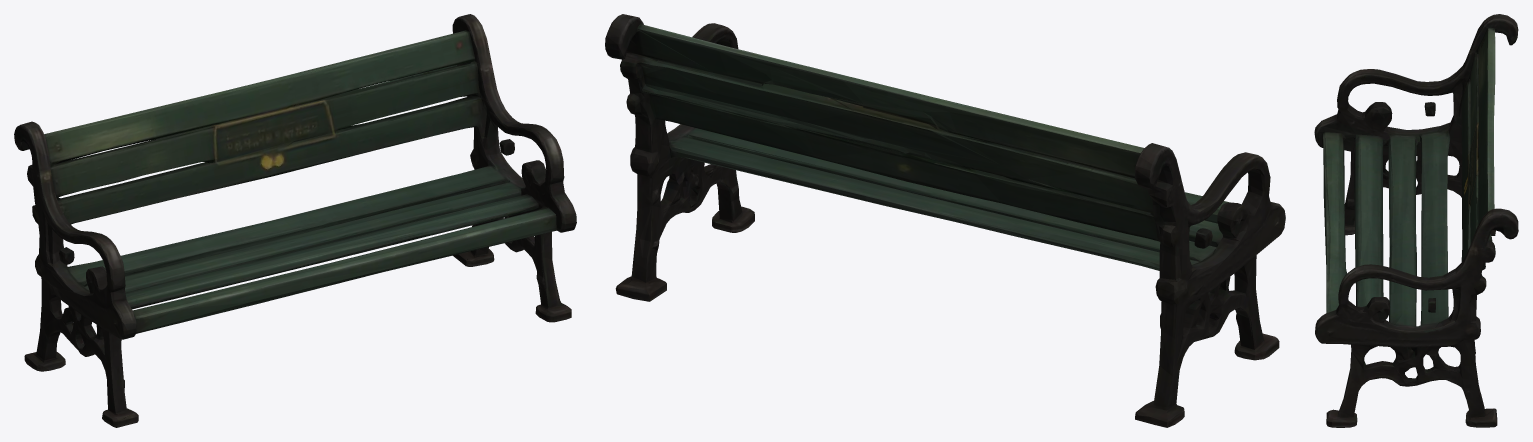
3 views of the same model, side by side, from view 1: azimuth 30°, elevation 25°; view 2: azimuth 150°, elevation 25°; view 3: azimuth 270°, elevation 25° (orthographic). The views are drawn at different scales.
Parts seen in each view (by area): view 1: world; view 2: world; view 3: world.
Boxes of the visible parts, x1=… form: world: x1=14, y1=14, x2=576, y2=427; world: x1=605, y1=14, x2=1285, y2=427; world: x1=1314, y1=14, x2=1518, y2=427.
Size of the model in its own units: 0.9958 by 0.483 by 0.4202.
1 material, 1 textured.
